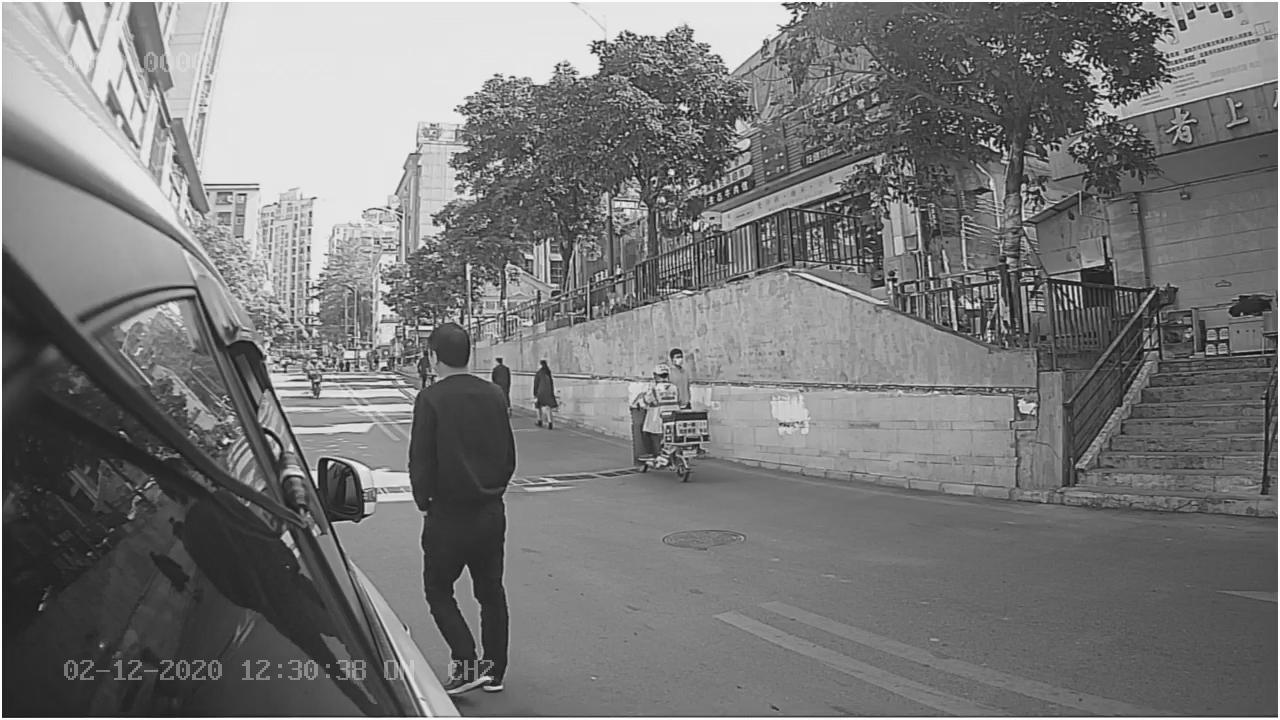person: (396, 321, 524, 475)
